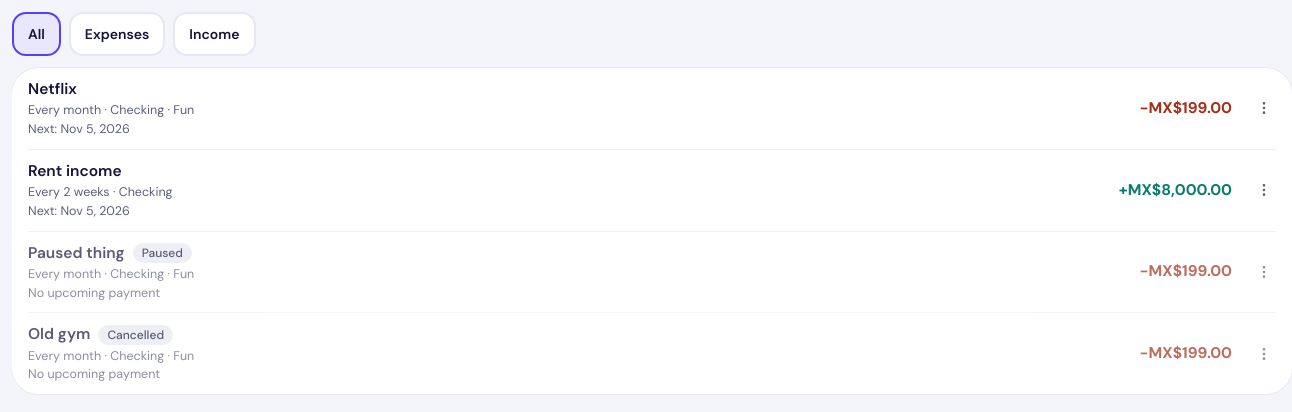
Test: RecurringList › filters by type
Click the button "Income": [214, 34] box [173,12,256,56]
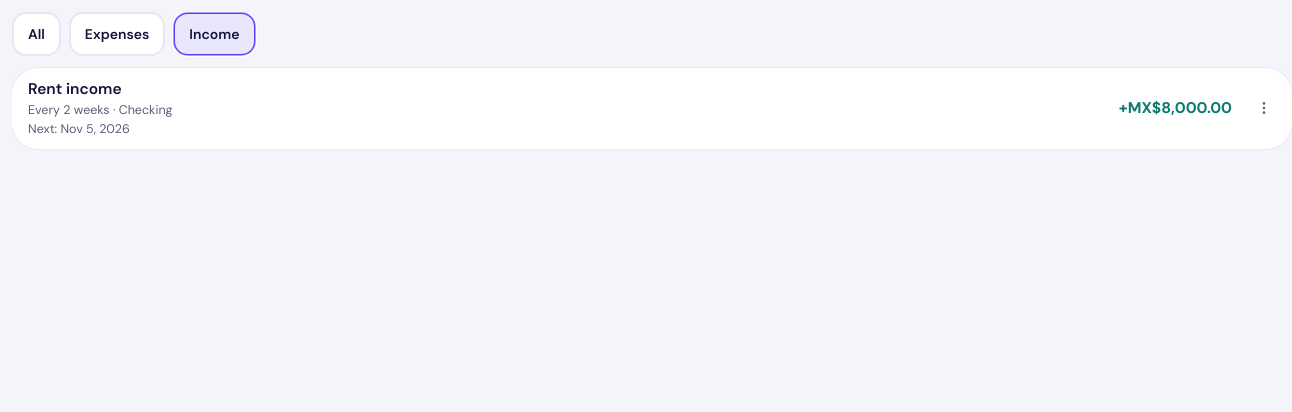
Expected: the text "Rent income" is shown, [28,78,122,101]
Expected: the number of list items with test id "recurring-row" is 1, [28,68,1276,149]
Click the button "All": [36, 34] box [12,12,61,56]
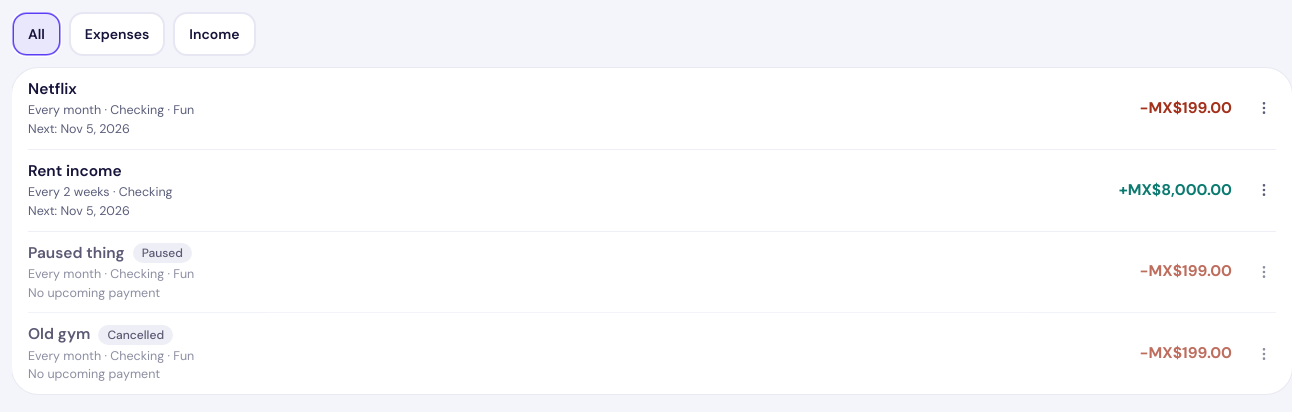
Expected: the number of list items with test id "recurring-row" is 4, [28,68,1276,150]; [28,150,1276,232]; [28,232,1276,313]; [28,313,1276,394]
